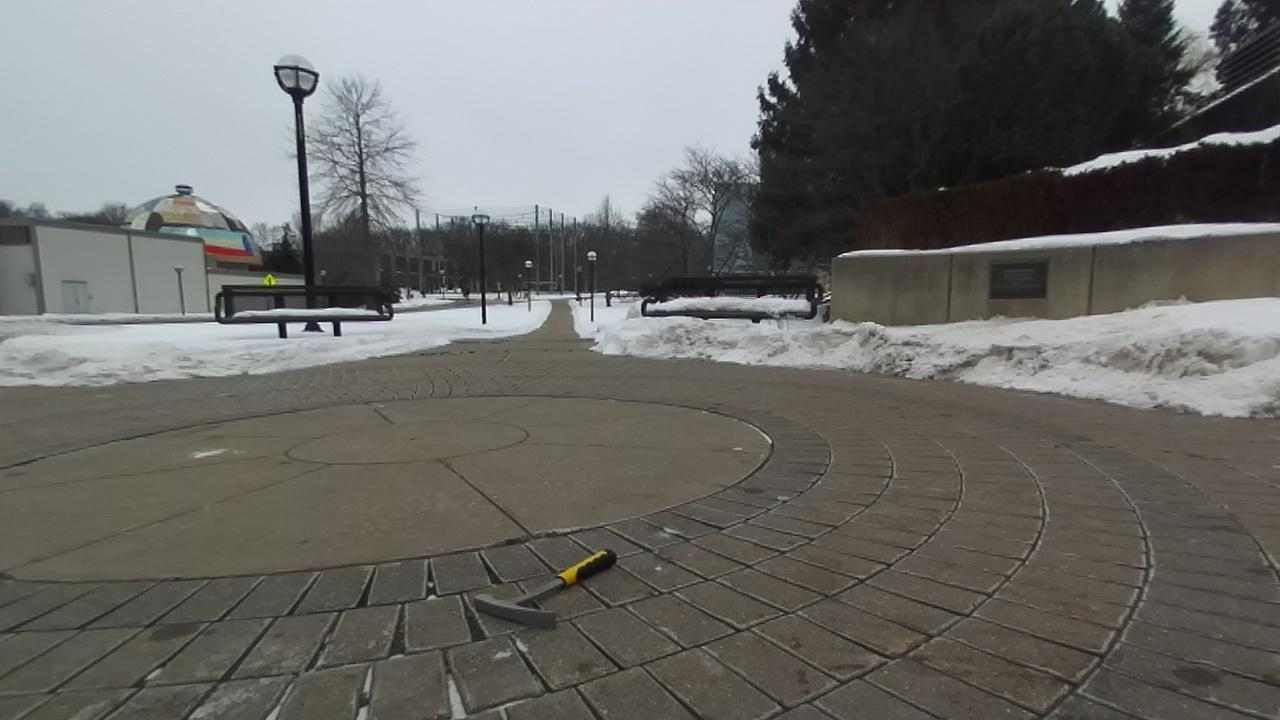pick: (475, 550, 617, 628)
